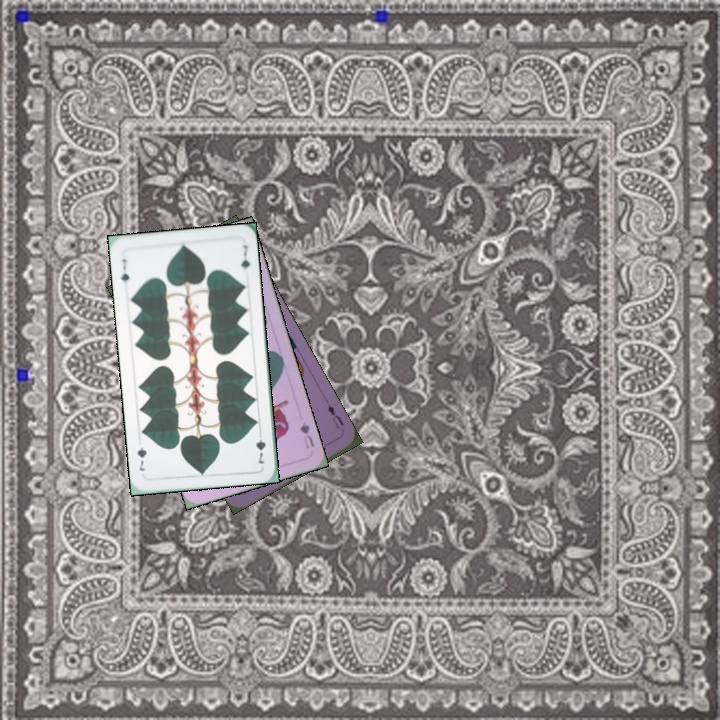EU: (323, 401, 347, 431)
G7: (252, 426, 268, 466), (117, 255, 132, 285)
GU: (296, 418, 317, 451)
